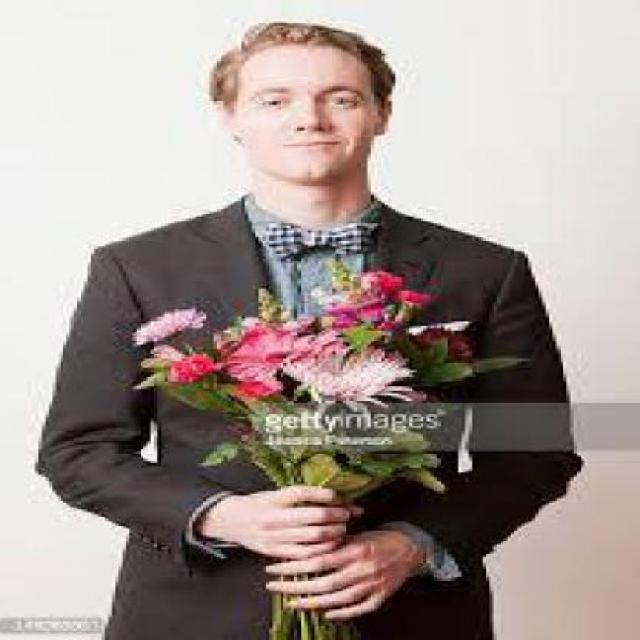flower: (134, 274, 498, 440)
